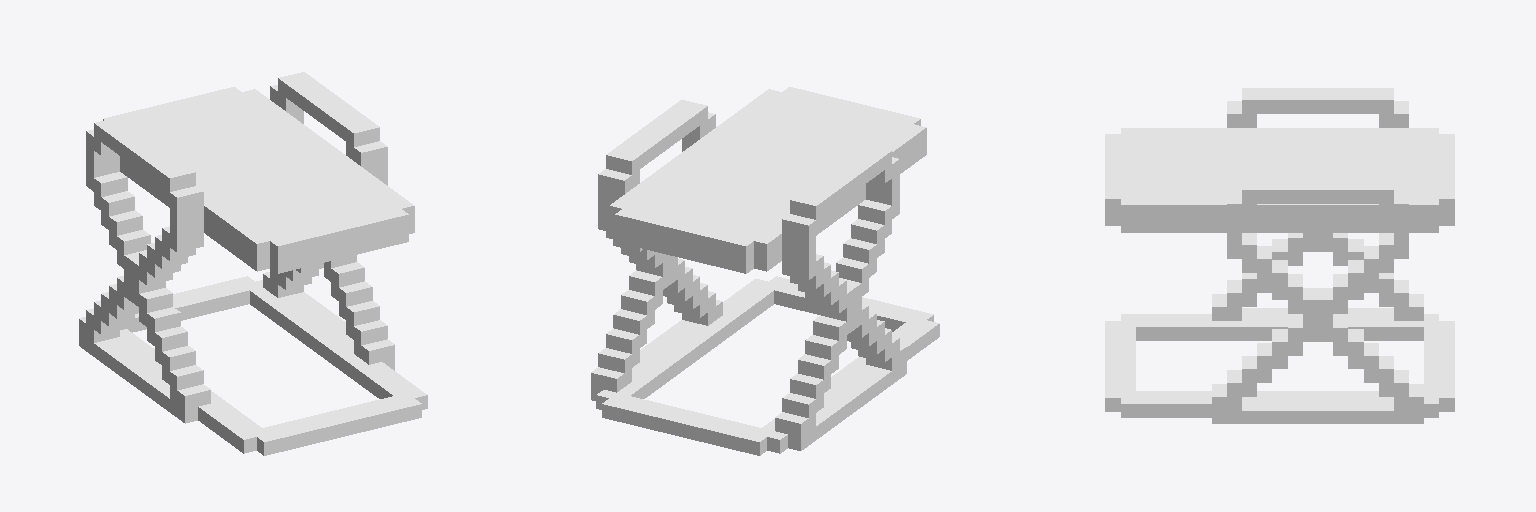
Rendered from hospital_bed.obj.
3 views of the same model, side by side, from view 1: azimuth 30°, elevation 25°; view 2: azimuth 150°, elevation 25°; view 3: azimuth 270°, elevation 25° (orthographic).
Visible parts, largest first — view 1: object 1; view 2: object 1; view 3: object 1.
Boxes of the visible parts, box(x1,y1,x2,y2) form: object 1: box(79, 72, 427, 455); object 1: box(591, 87, 939, 455); object 1: box(1105, 88, 1454, 423).
Size of the model in its own units: 1.6 by 1.7 by 2.3.